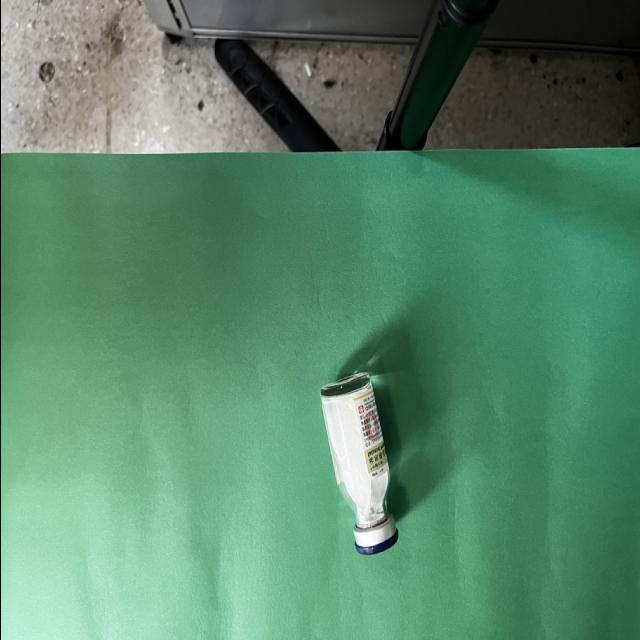Vials: (320, 372, 397, 555)
